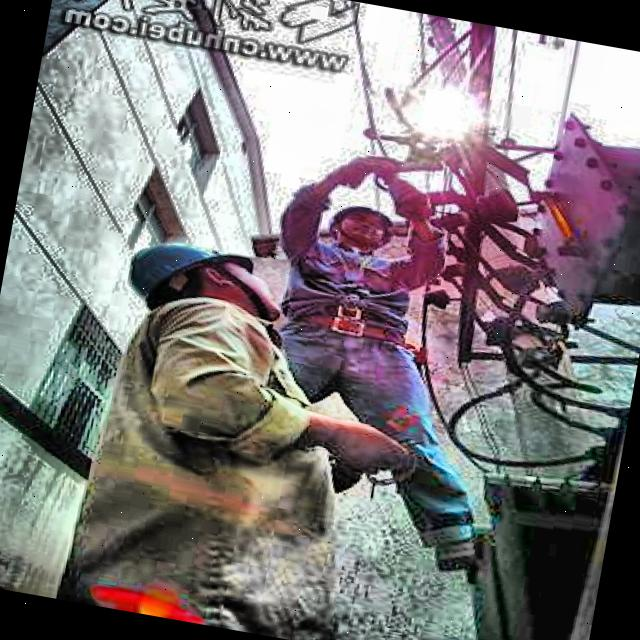helmet: (134, 218, 292, 336), (312, 186, 410, 260)
